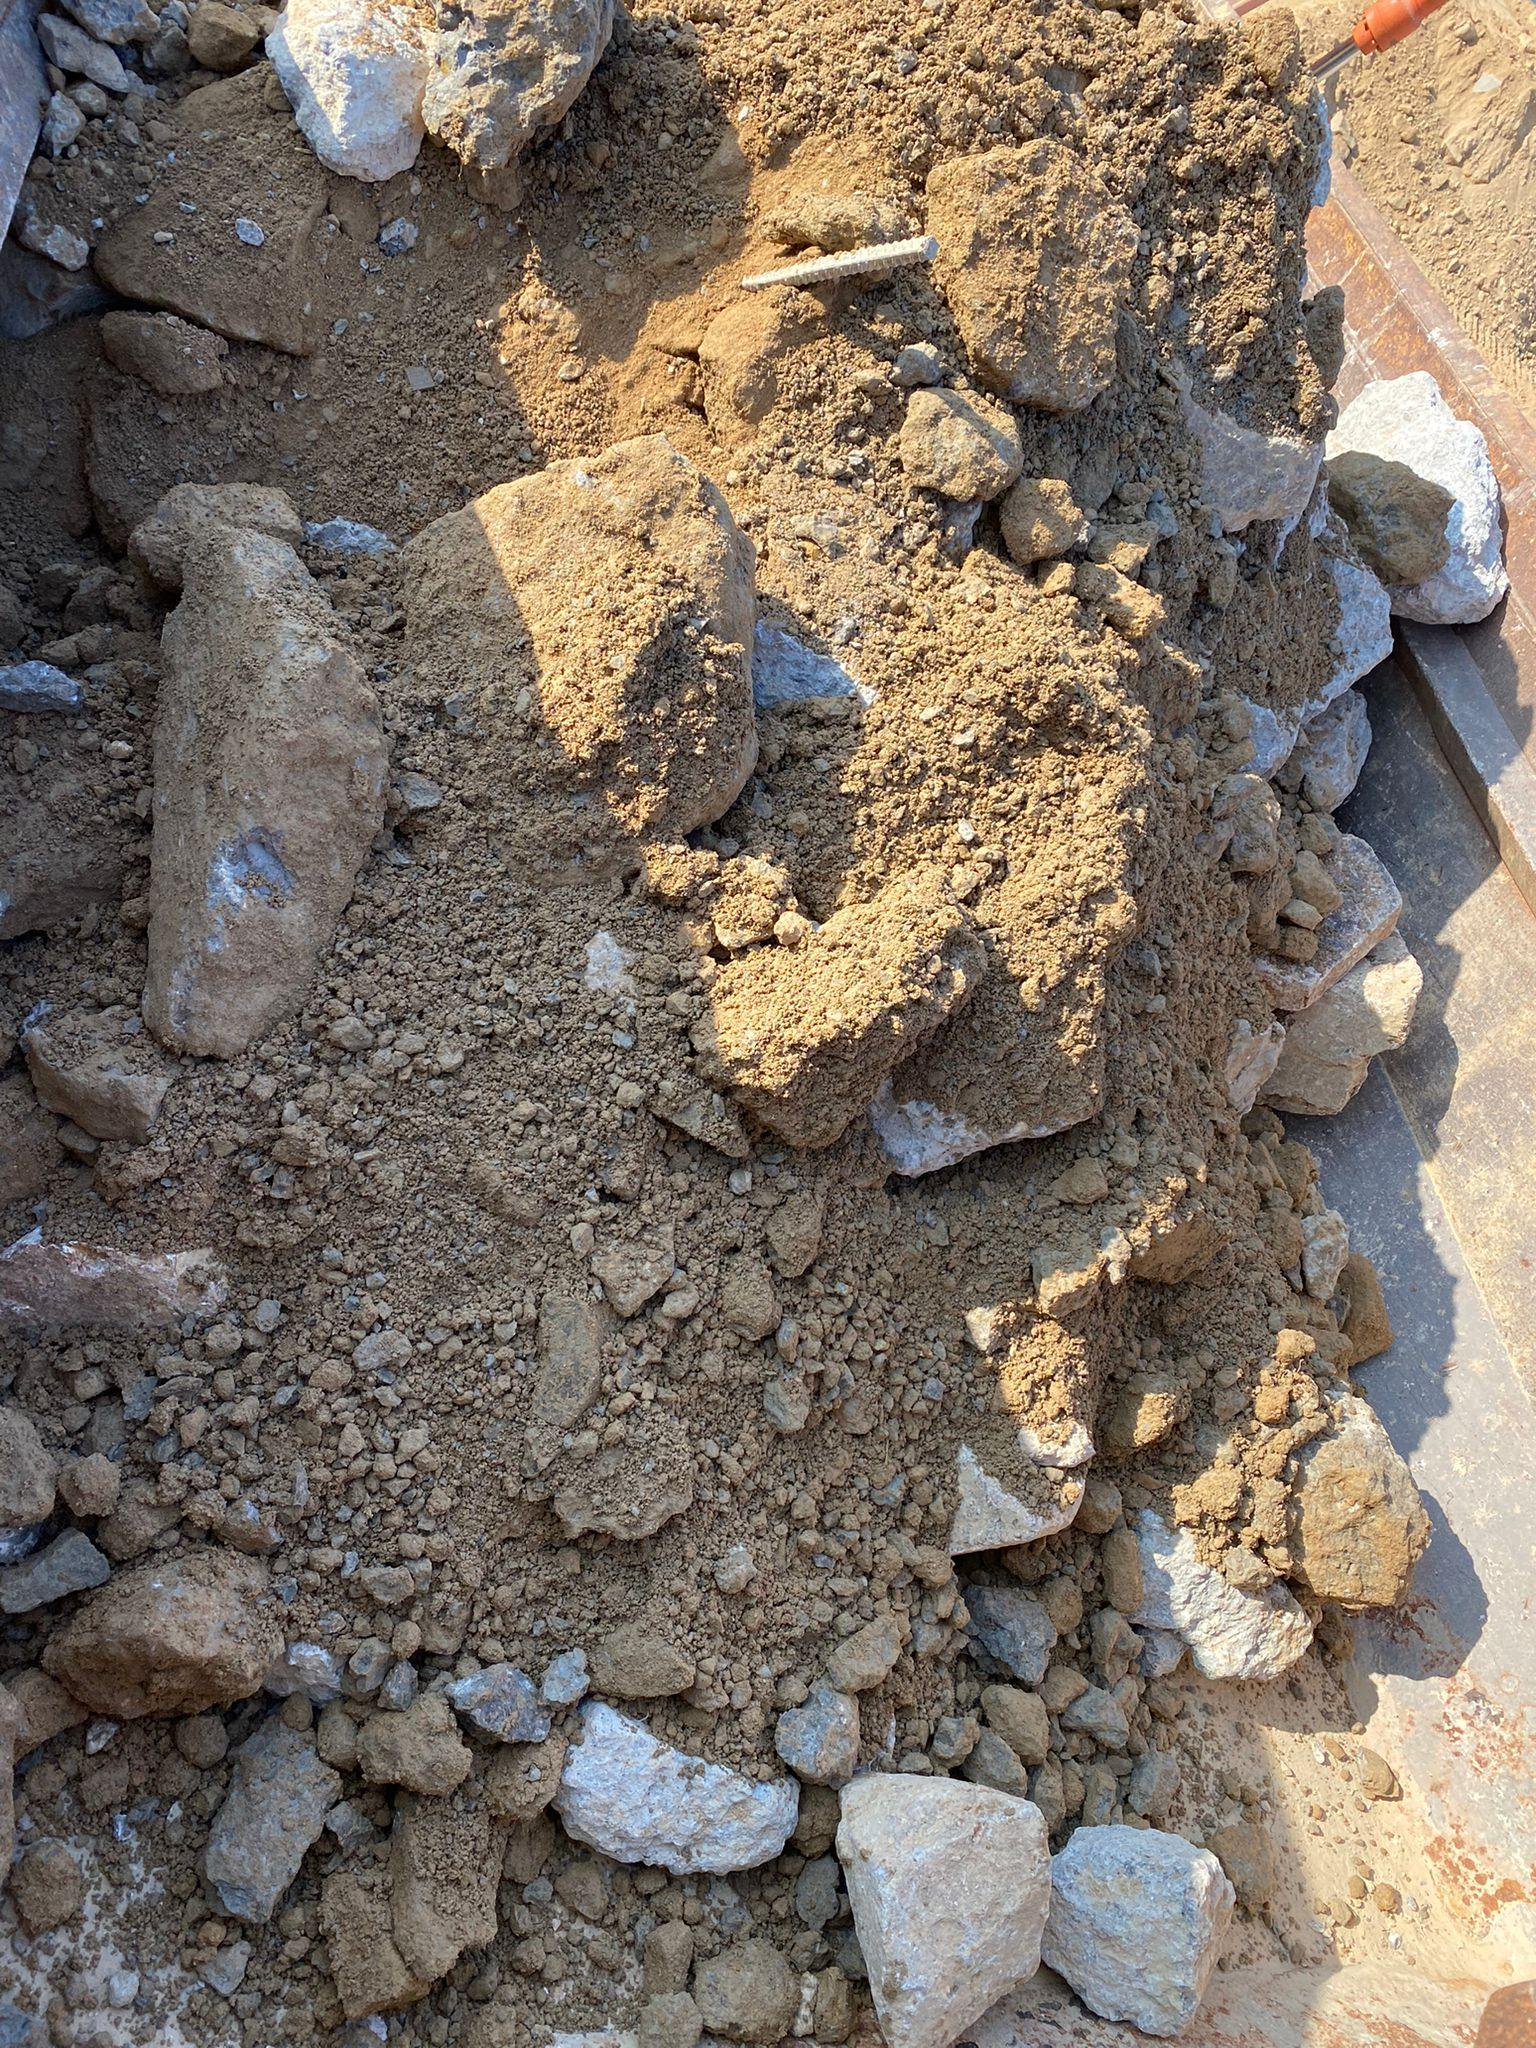dirt: (3, 2, 1530, 2045)
stone: (390, 429, 762, 845), (140, 519, 390, 1058), (833, 1769, 1050, 2045), (1320, 368, 1510, 627), (552, 1698, 802, 1875), (39, 1543, 286, 1721), (1042, 1821, 1234, 2035)
